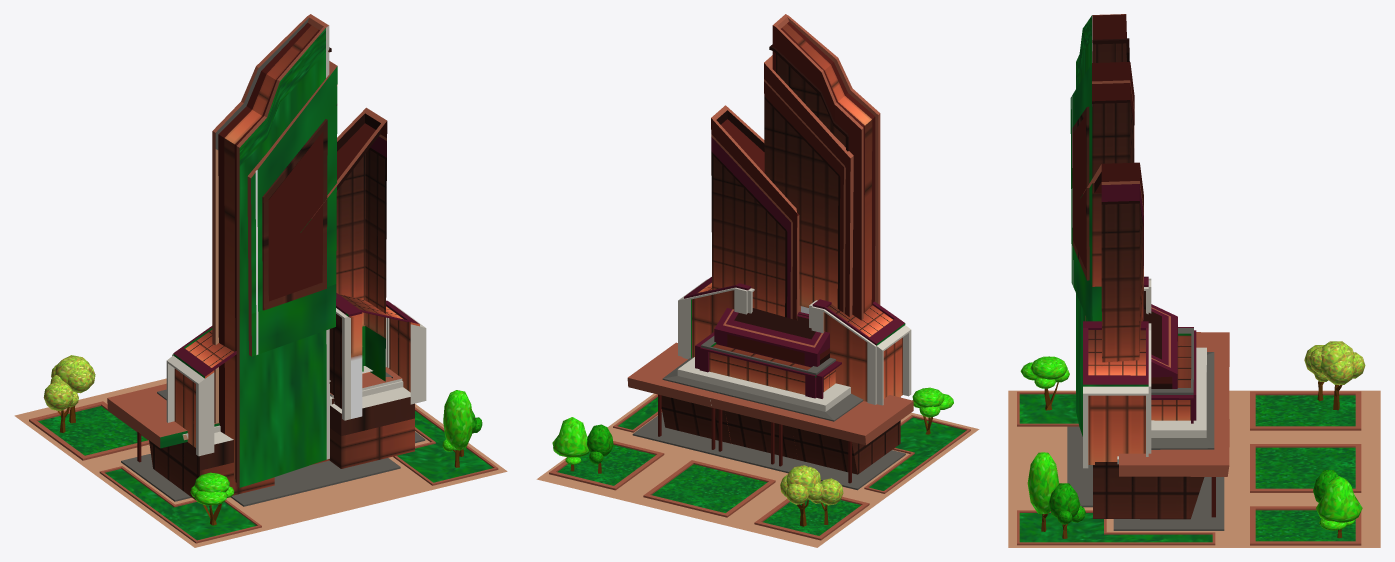
File: bank_LV1.fbx
3 renders of one model, left to right at view 1: azimuth 30°, elevation 25°; view 2: azimuth 150°, elevation 25°; view 3: azimuth 270°, elevation 25°, orthographic. The views are drawn at different scales.
Parts seen in each view (by area): view 1: bank 1; view 2: bank 1; view 3: bank 1.
Part boxes in pixels (x1=…): bank 1: x1=14, y1=14, x2=507, y2=547; bank 1: x1=536, y1=14, x2=979, y2=547; bank 1: x1=1008, y1=14, x2=1380, y2=547.
Bounding box in the file's own units: 101 × 139 × 100.
